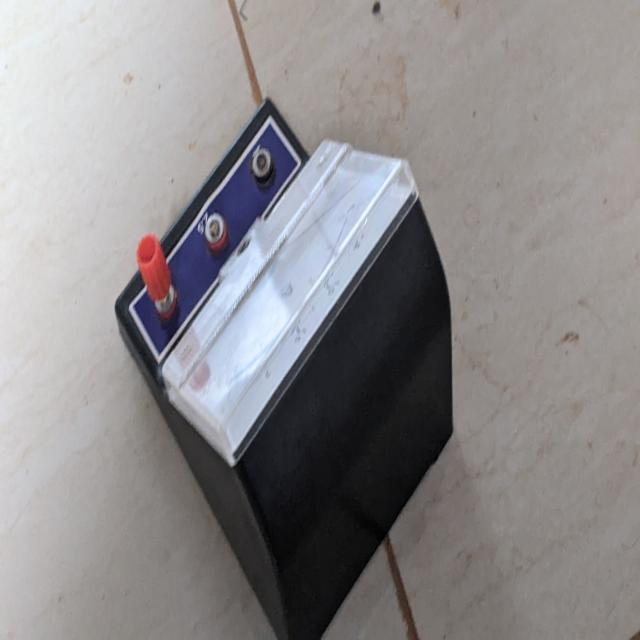Ammeter Analog: (114, 120, 456, 636)
